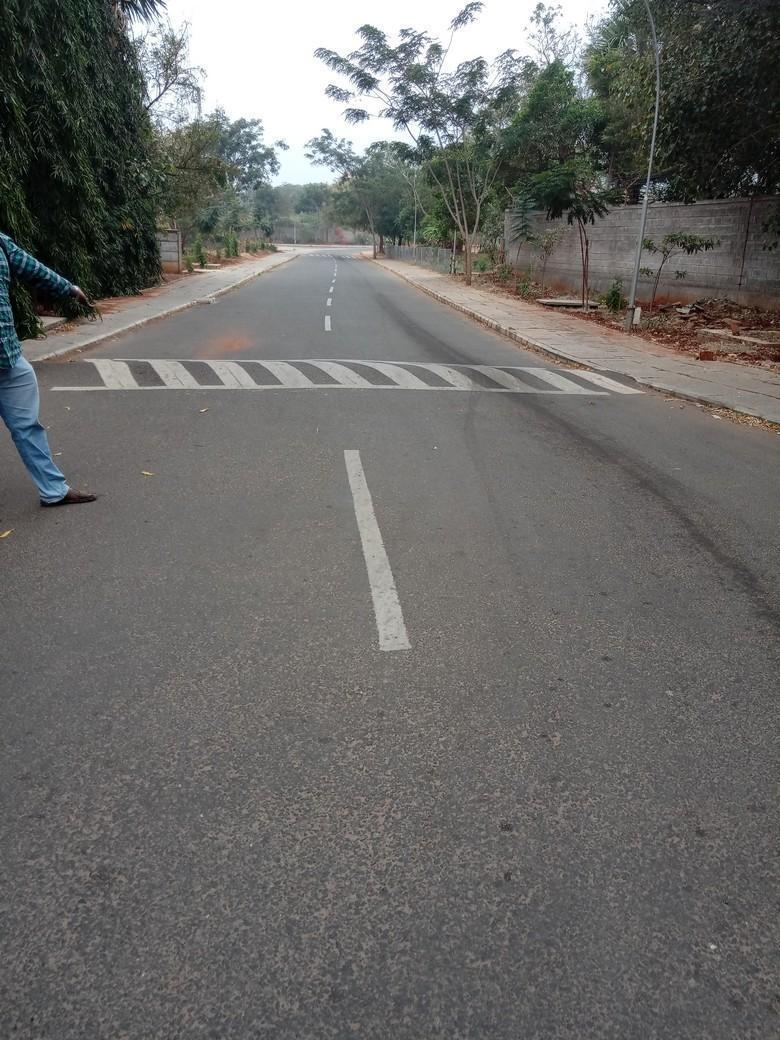speedbreaker: (41, 338, 657, 404)
